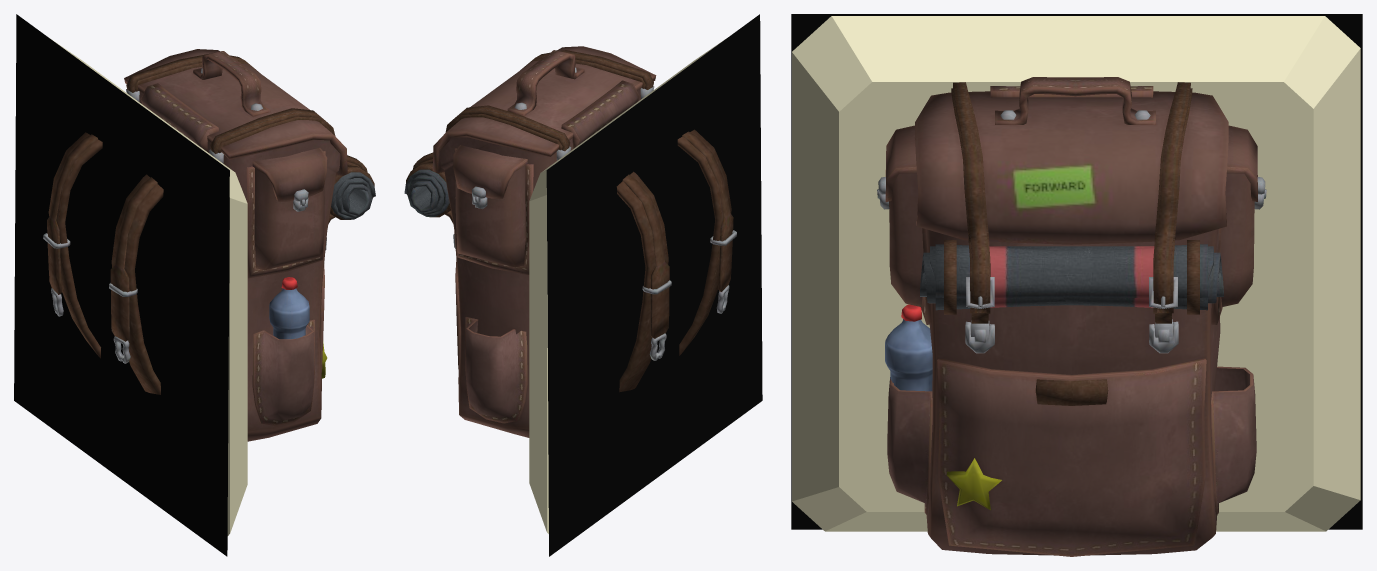
Rendered from bptabbrown.glb.
3 renders of one model, left to right at view 1: azimuth 30°, elevation 25°; view 2: azimuth 150°, elevation 25°; view 3: azimuth 270°, elevation 25°, orthographic. The views are drawn at different scales.
Parts seen in each view (by area): view 1: Plane, bag.003_low, bag_low, Cube, bag.036_low, bag.018_low, bag.041_low, bag.045_low, bag.019_low, bag.039_low, bag.024_low, bag.006_low (+7 smaller); view 2: Plane, bag_low, bag.003_low, Cube, bag.037_low, bag.020_low, bag.045_low, bag.041_low, bag.021_low, bag.043_low, bag.024_low, bag.006_low (+6 smaller); view 3: Cube, bag.001_low, bag.003_low, bag_low, bag.011_low, Plane, bag.037_low, bag.036_low, bag.029_low, bag.018_low, bag.030_low, bag.020_low (+12 smaller).
Part boxes in pixels (x1,y1,x2,y2): Plane: (14, 14, 229, 556); bag.003_low: (124, 49, 347, 175); bag_low: (139, 92, 340, 441); Cube: (50, 38, 247, 535); bag.036_low: (252, 319, 314, 426); bag.018_low: (254, 168, 324, 270); bag.041_low: (111, 174, 163, 394); bag.045_low: (48, 132, 102, 358); bag.019_low: (252, 148, 327, 201); bag.039_low: (110, 177, 157, 341); bag.024_low: (140, 83, 218, 151); bag.006_low: (193, 51, 270, 117); Plane: (546, 14, 762, 556); bag_low: (440, 89, 640, 437); bag.003_low: (432, 46, 656, 172); Cube: (529, 38, 726, 533); bag.037_low: (465, 317, 527, 423); bag.020_low: (455, 165, 525, 267); bag.045_low: (616, 171, 668, 392); bag.041_low: (677, 129, 731, 355); bag.021_low: (453, 145, 527, 198); bag.043_low: (622, 174, 669, 338); bag.024_low: (561, 80, 639, 148); bag.006_low: (507, 50, 584, 116); Cube: (792, 16, 1360, 531); bag.001_low: (937, 358, 1206, 556); bag.003_low: (915, 91, 1228, 244); bag_low: (925, 229, 1220, 555); bag.011_low: (920, 244, 1223, 310); Plane: (791, 14, 1362, 529); bag.037_low: (1211, 366, 1256, 514); bag.036_low: (887, 377, 932, 514); bag.029_low: (953, 82, 988, 312); bag.018_low: (889, 173, 923, 306); bag.030_low: (1154, 82, 1190, 312); bag.020_low: (1220, 173, 1254, 306).
Size of the model in its own units: 1.66 by 2.42 by 2.41.
Materials: 3 (1 with a texture image).
